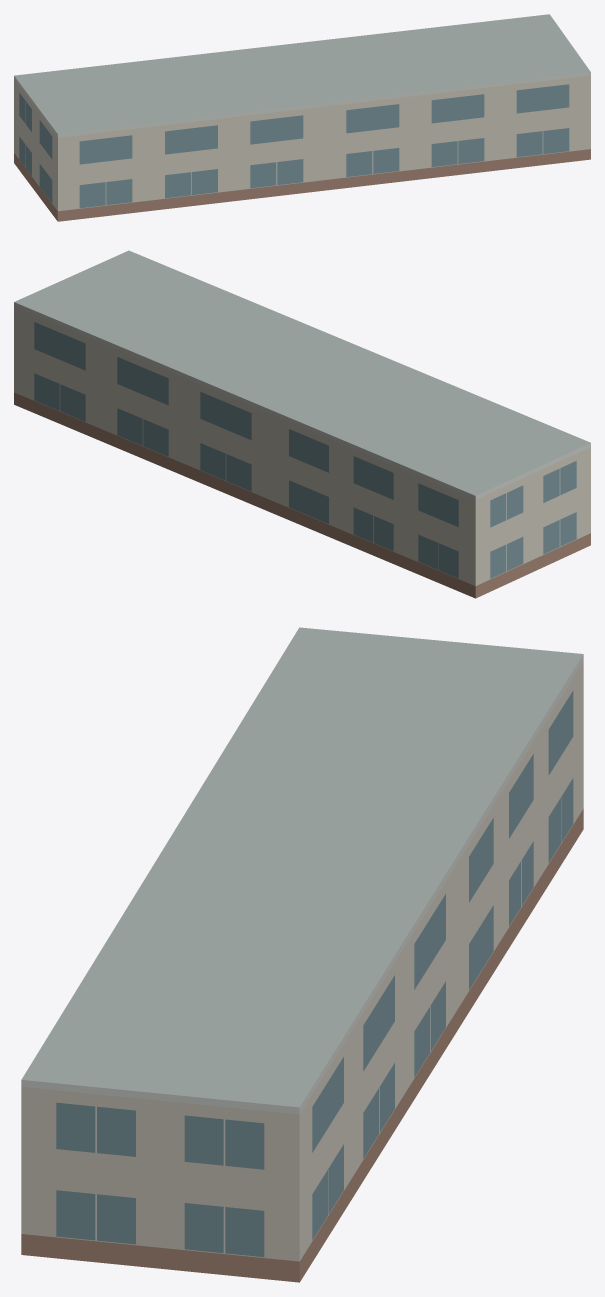
File: survey-upis-32756989.glb
3 views of the same model, one above another, from view 1: azimuth 30°, elevation 25°; view 2: azimuth 150°, elevation 25°; view 3: azimuth 270°, elevation 25° (orthographic). The views are drawn at different scales.
Visible parts, largest first — view 1: survey-upis-32756989.tmp; view 2: survey-upis-32756989.tmp; view 3: survey-upis-32756989.tmp.
Boxes of the visible parts, box(x1,y1,x2,y2) form: survey-upis-32756989.tmp: box(14, 14, 590, 221); survey-upis-32756989.tmp: box(14, 250, 590, 598); survey-upis-32756989.tmp: box(21, 627, 583, 1282).
Size of the model in its own units: 35.89 by 6.1 by 17.77.
